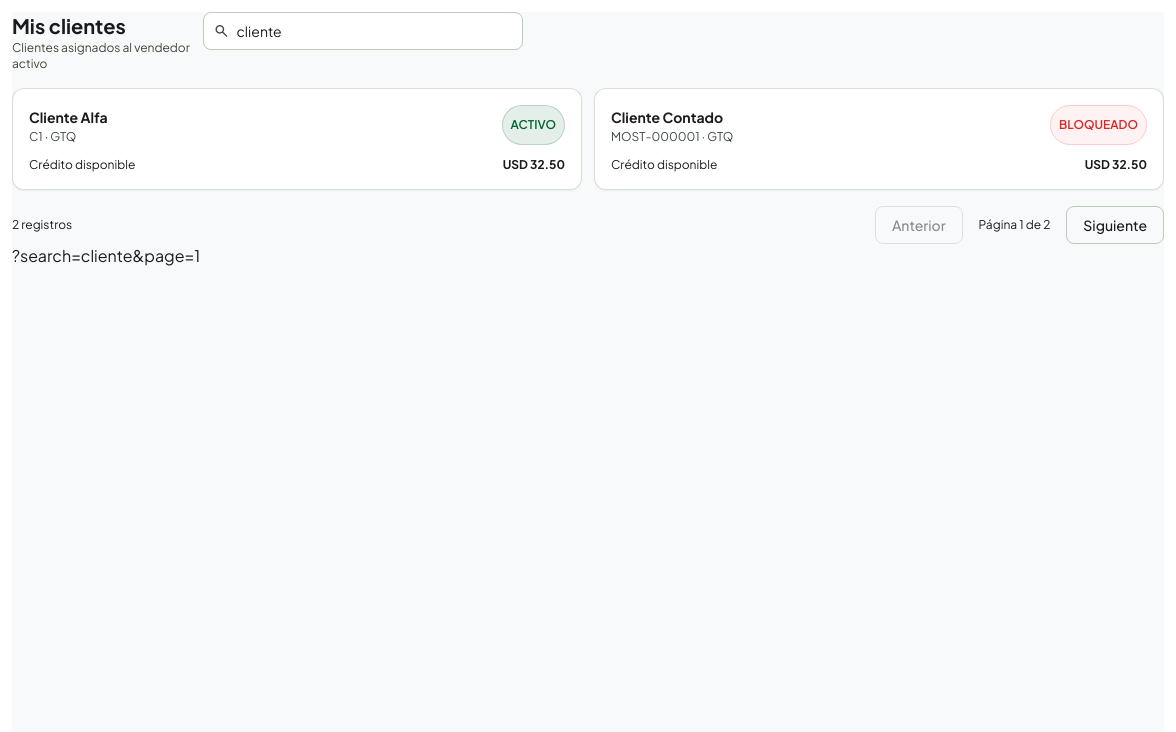
Test: ClientsPage search and customer details › shows empty addresses inside the selected customer
Click the button "Cliente Alfa C1 · GTQ ACTIVO Crédito disponible USD 32.50" at (68, 117), box [12,88,582,190]
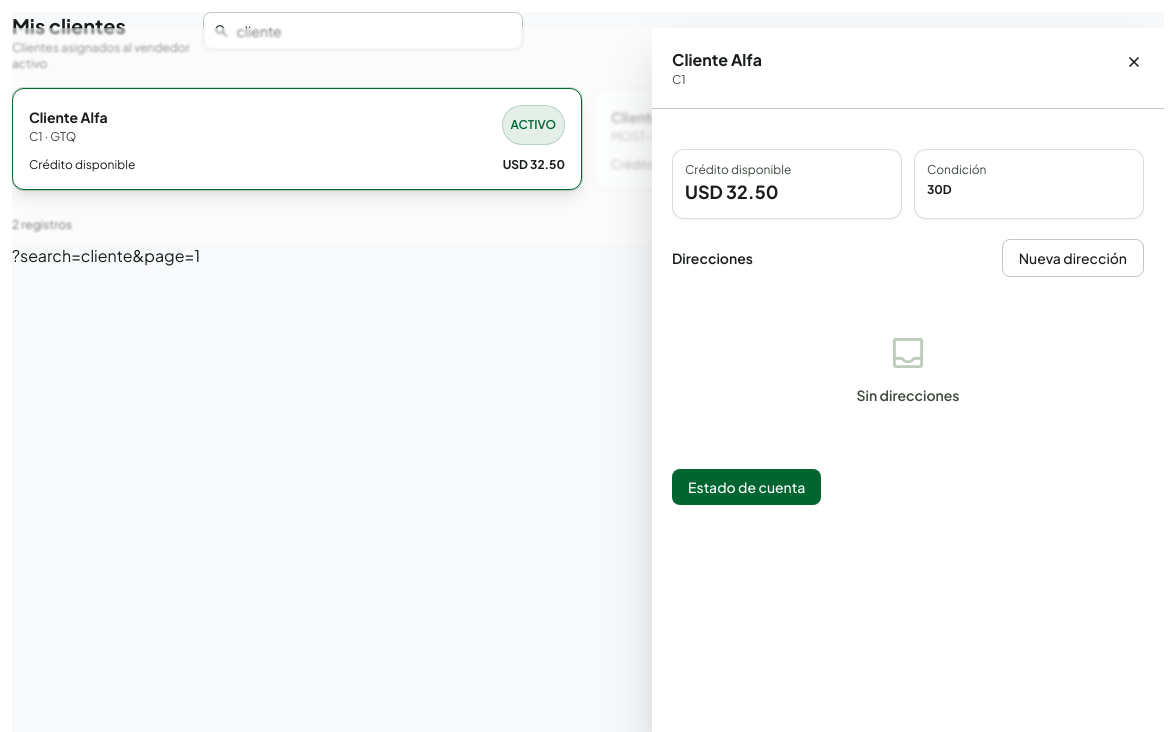
Expected: the text "Sin direcciones" is shown, [856,385,960,405]
